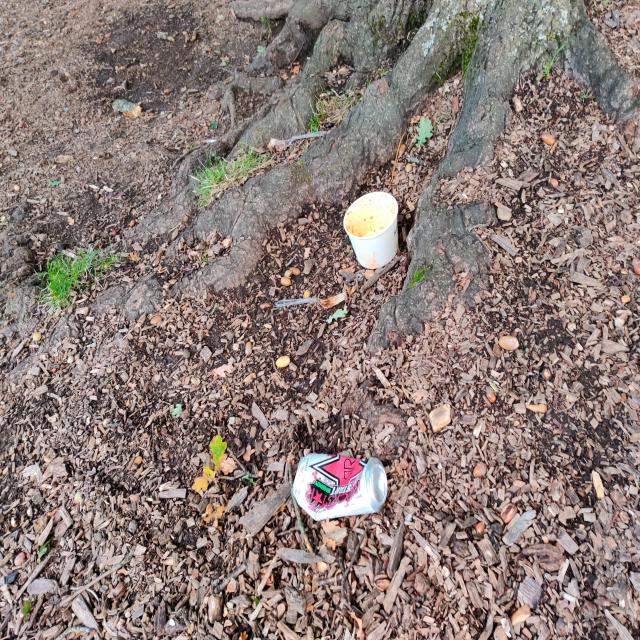litter: (294, 186, 402, 530)
